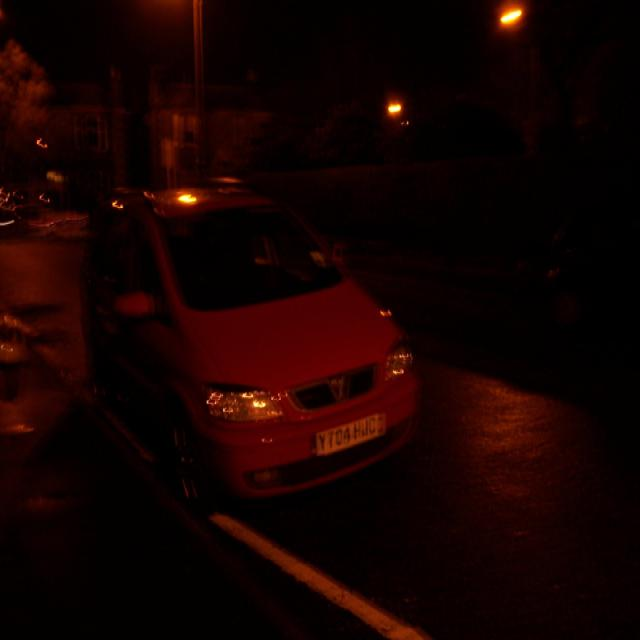Car: (80, 190, 420, 528)
